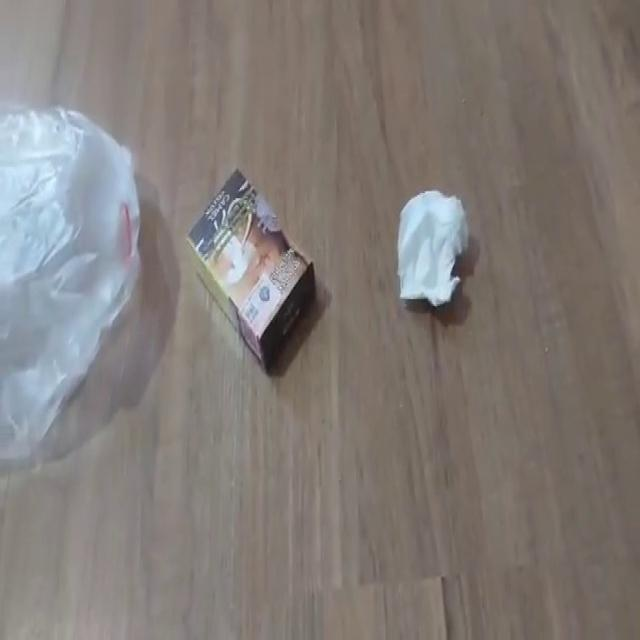Anorganik: (1, 99, 146, 466)
Organik: (185, 160, 321, 383), (395, 179, 472, 315)
